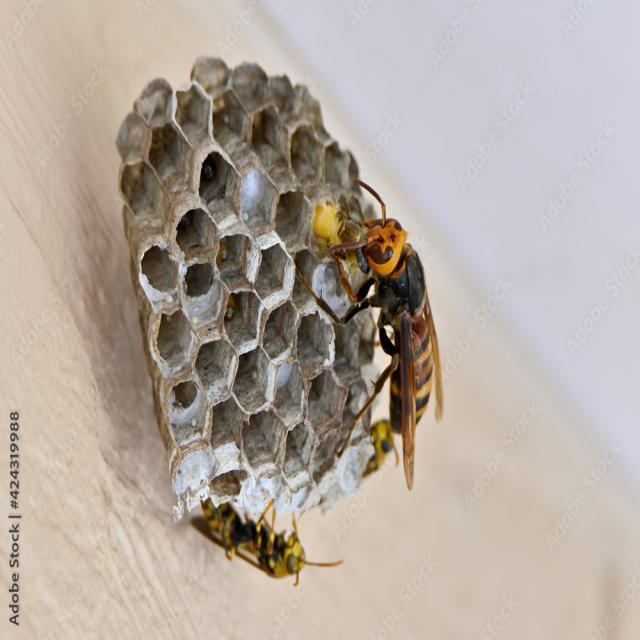Wasp: (328, 146, 448, 489)
